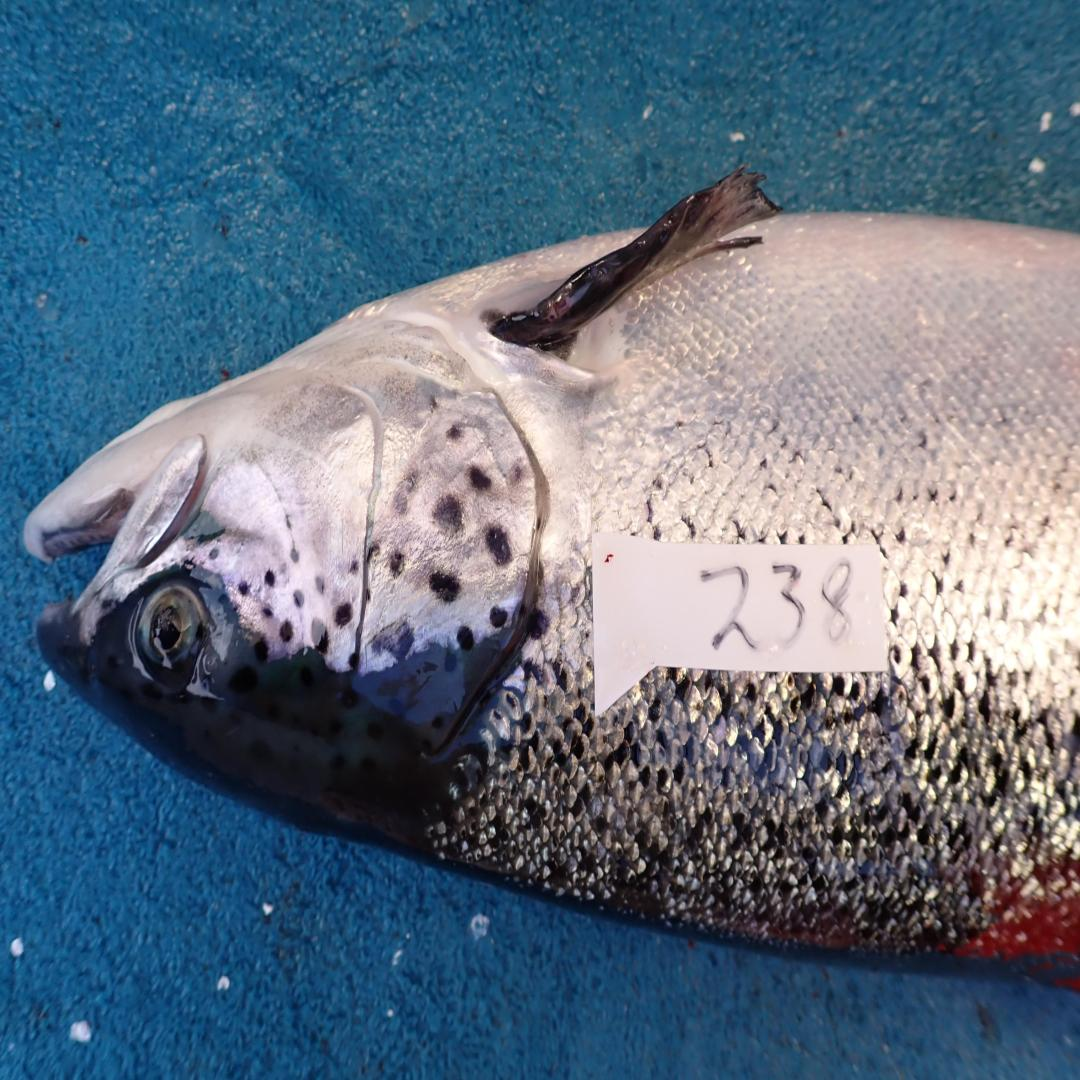spot: (368, 621, 414, 662), (432, 495, 462, 534), (392, 470, 418, 515), (485, 526, 510, 565), (430, 571, 460, 602), (310, 619, 327, 650), (468, 467, 491, 489), (333, 602, 352, 627), (458, 627, 475, 650), (390, 551, 405, 577), (253, 638, 268, 664), (489, 608, 508, 627), (366, 543, 382, 562), (446, 424, 463, 440), (361, 582, 371, 608), (281, 622, 293, 641), (348, 652, 361, 669), (289, 543, 300, 562), (264, 571, 276, 588), (283, 512, 293, 532), (293, 591, 304, 608), (238, 581, 249, 595), (316, 576, 324, 593), (350, 560, 359, 574), (514, 466, 521, 484), (262, 607, 273, 618), (209, 548, 219, 560), (430, 397, 437, 412)
